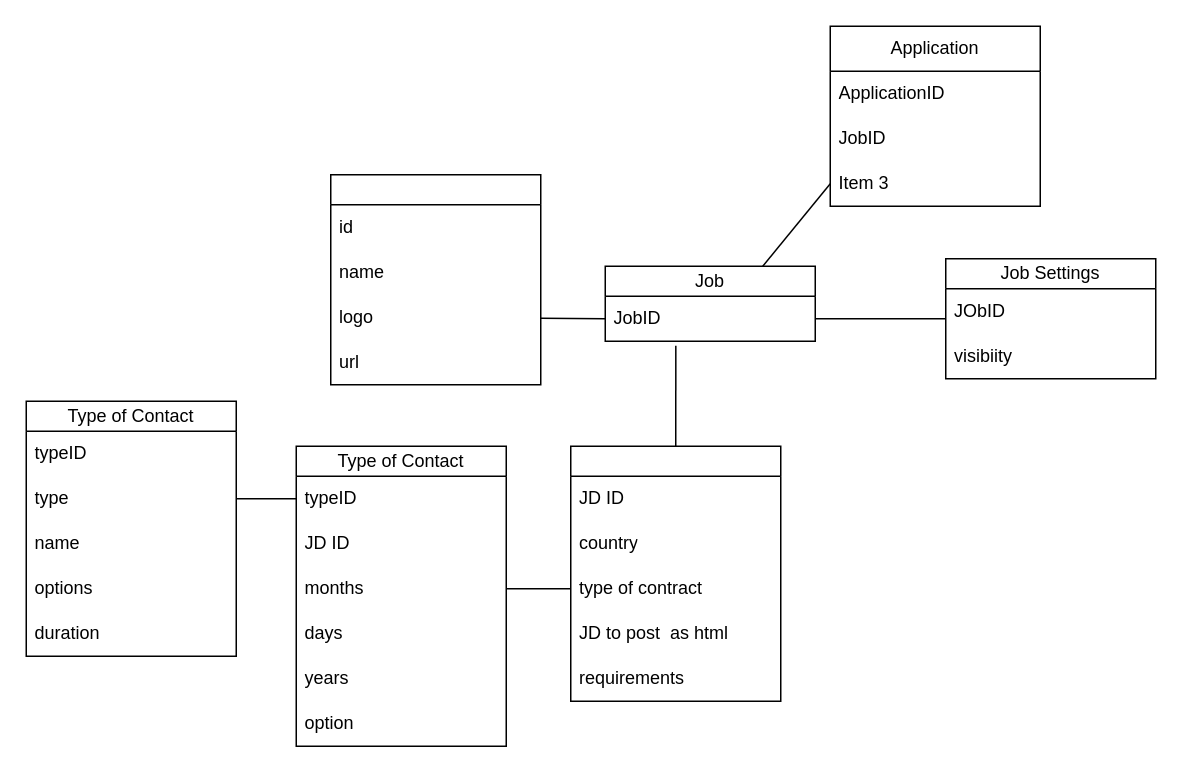
Image size: 1182x773. Some labels were removed from this diagram. The box of each missing label's shape, as (x1, y1, x2, y2) in pixels:
Job Description: (569, 445, 781, 701)
Society: (329, 173, 541, 385)
